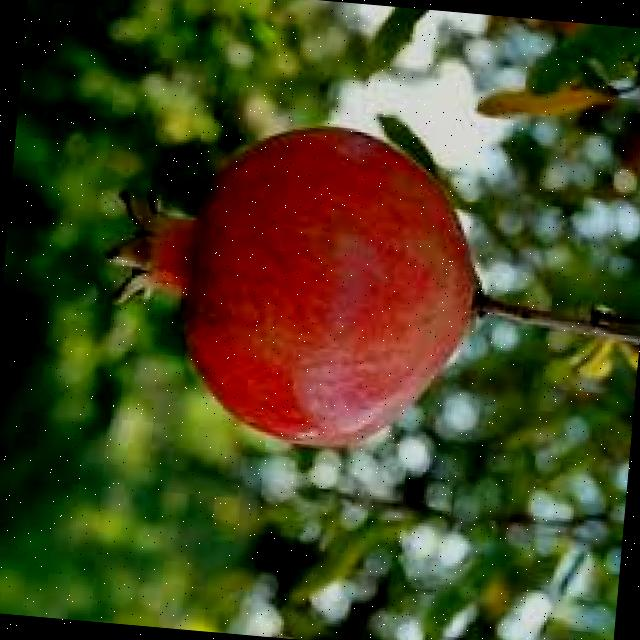Pomegranate: (90, 98, 492, 461)
